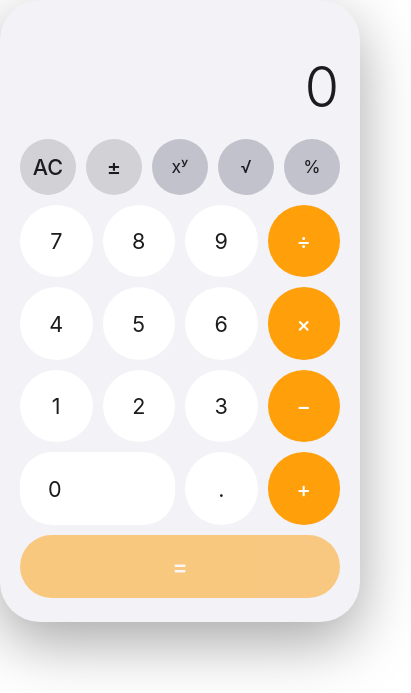
Test: Calculator › types a number, confirms it with an operator, types the second number, and computes on =
The image size is (411, 693).
Click the button "4": click(56, 324) top-left (20, 287), bottom-right (92, 360)
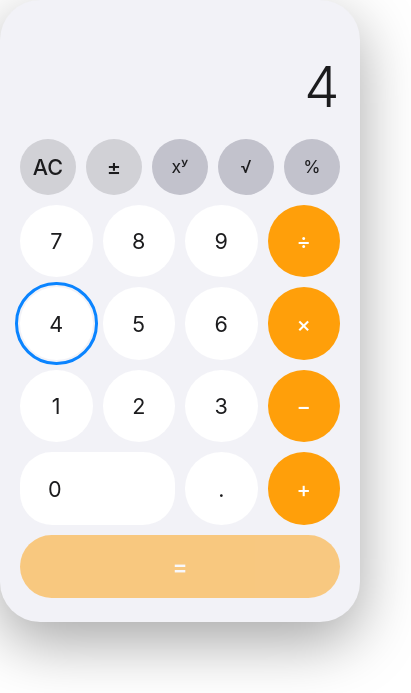
Expected: the text with test id "display" reads "4", top-left (304, 53), bottom-right (340, 121)
Click the button "+": click(304, 489) top-left (268, 452), bottom-right (340, 525)
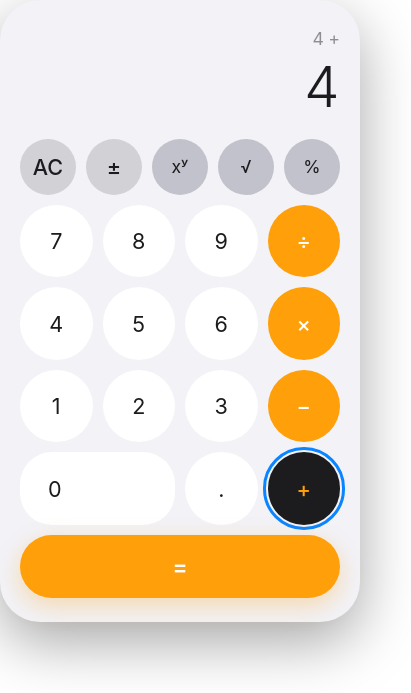
Expected: the text with test id "display" reads "4", top-left (304, 53), bottom-right (340, 121)
Click the button "5": click(139, 324) top-left (102, 287), bottom-right (175, 360)
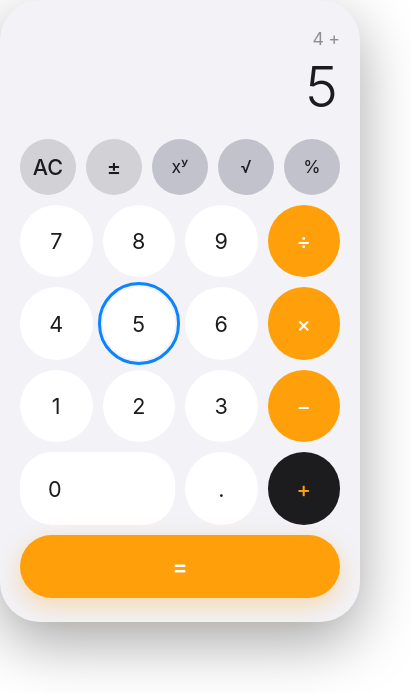
Expected: the text with test id "display" reads "5", top-left (304, 53), bottom-right (340, 121)
Click the button "=": click(180, 566) top-left (20, 535), bottom-right (340, 598)
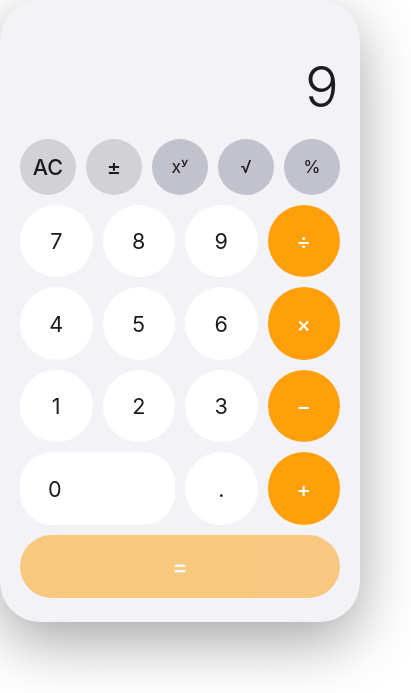
Expected: the text with test id "display" reads "9", top-left (304, 53), bottom-right (340, 121)
